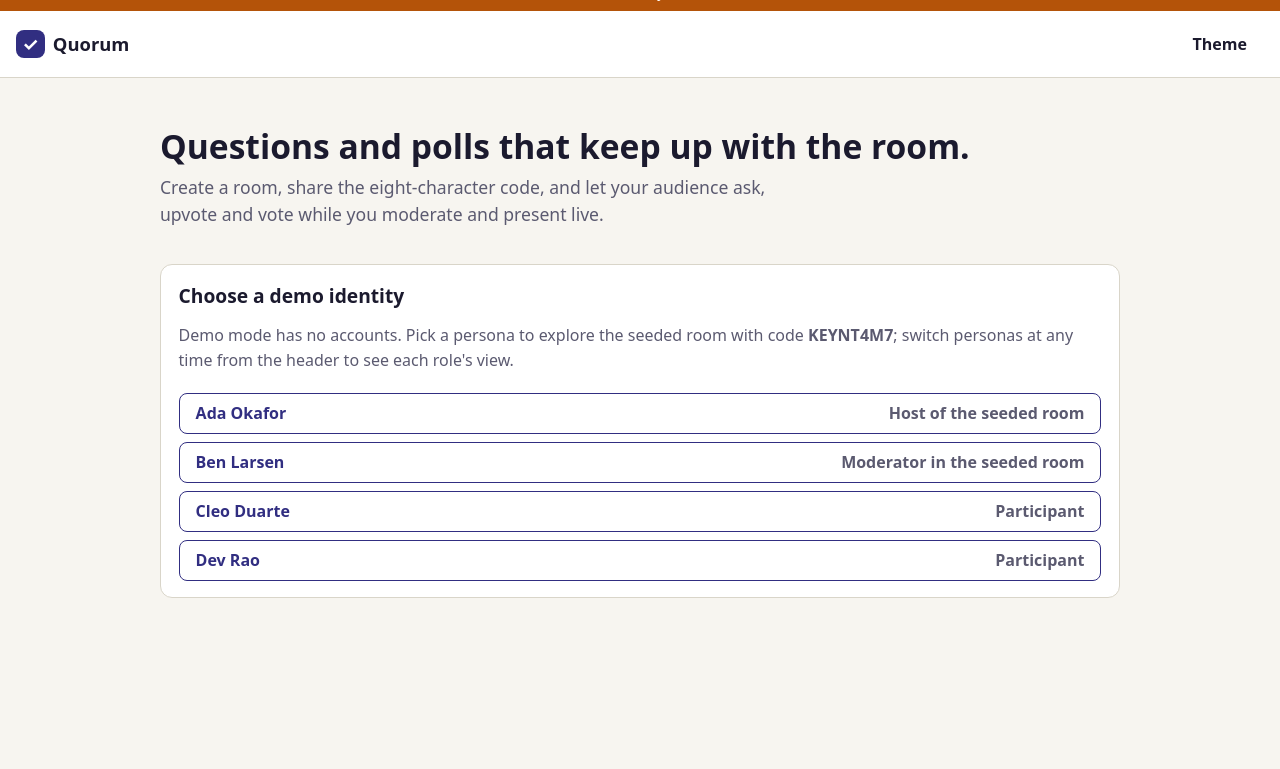
as a participant › votes once in the open poll and then sees results
Click the button "Ada Okafor Host of the seeded room": (241, 413) [179, 393, 1101, 434]
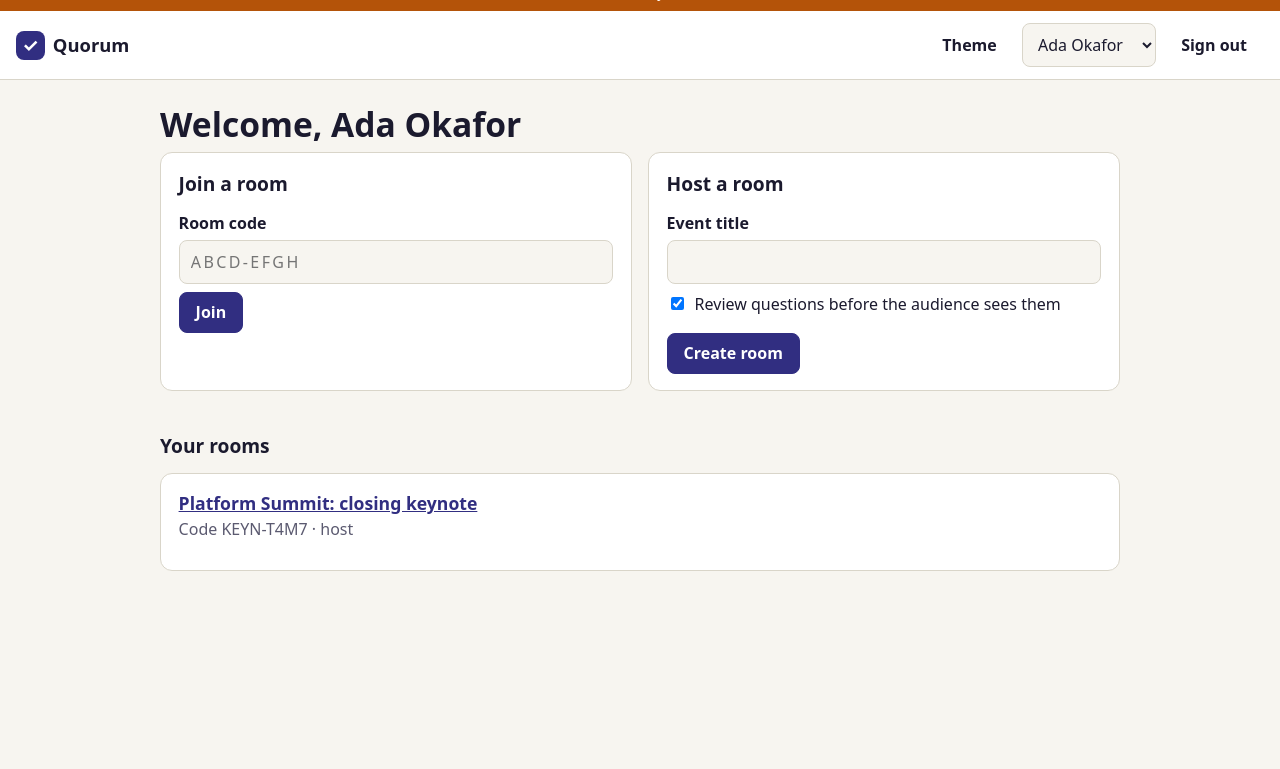
Click the link "Platform Summit: closing keynote": (328, 503) [179, 491, 477, 515]
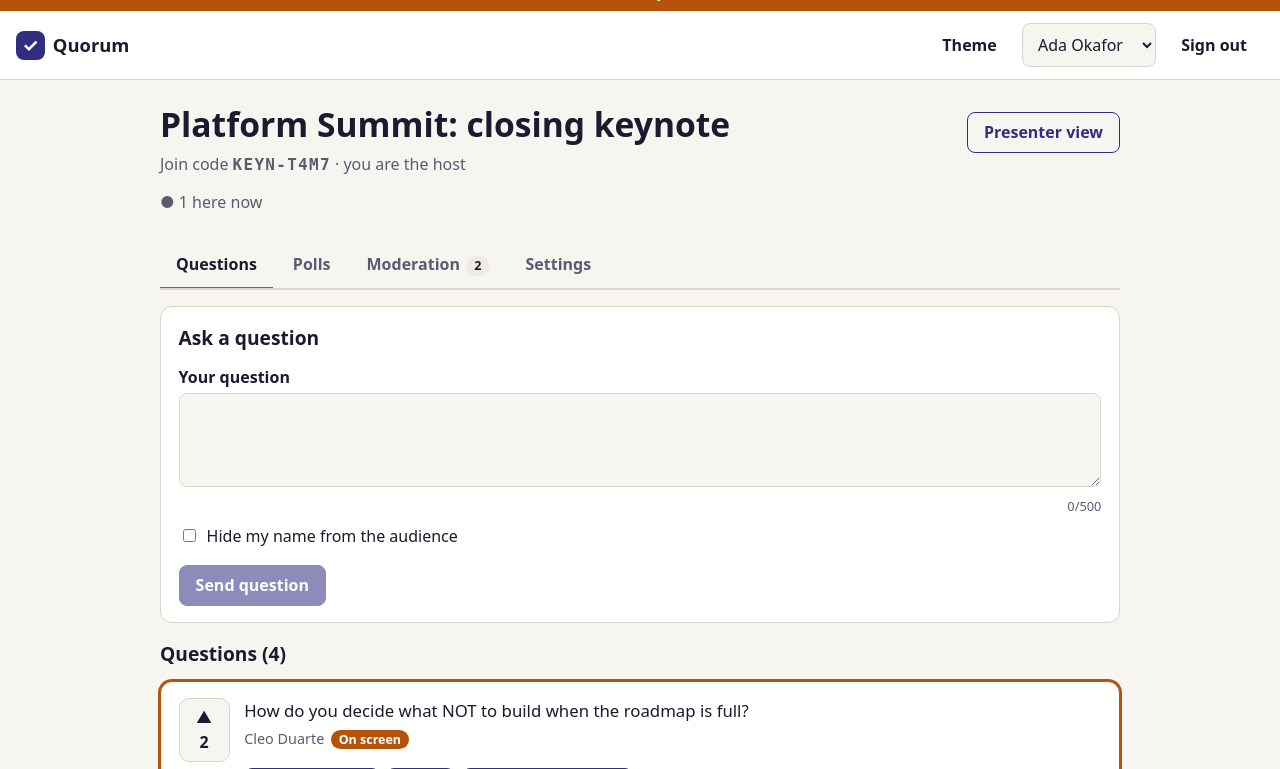
Click the tab "Polls": (312, 266) [277, 243, 347, 290]
(page scrolled)
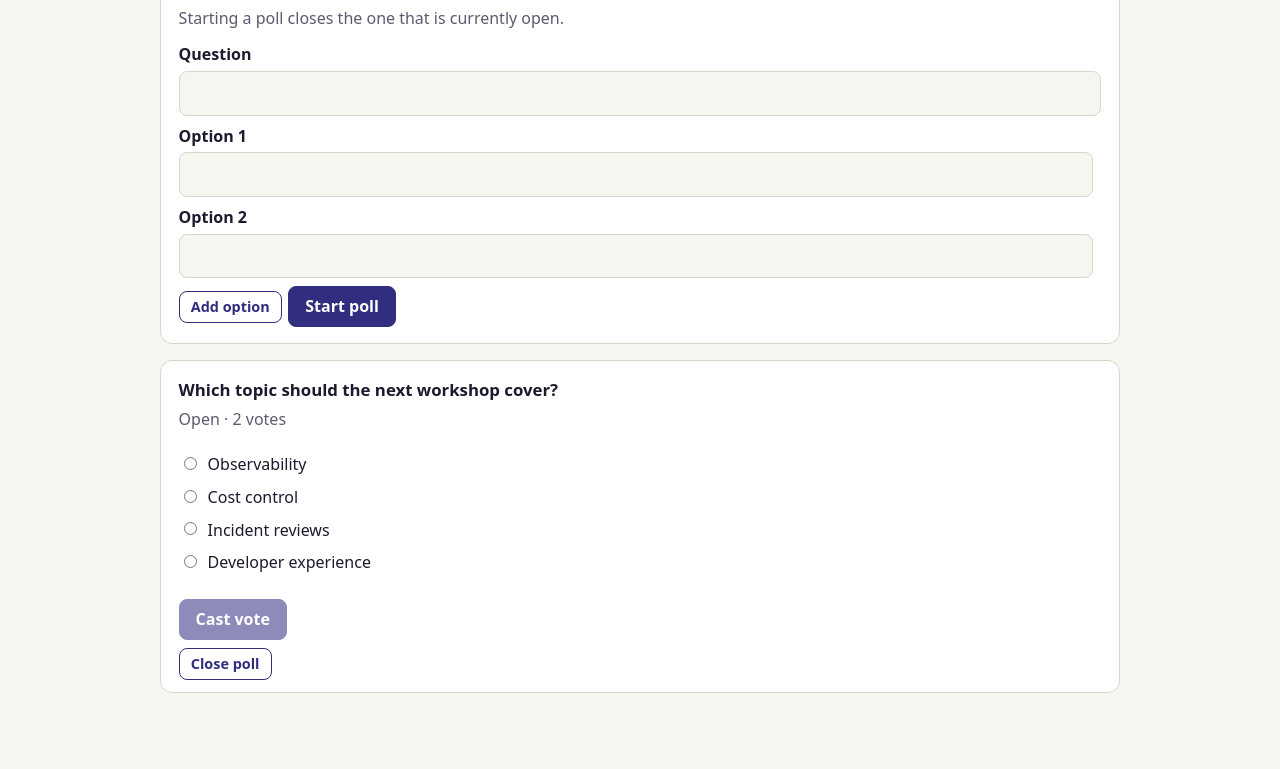
Click the radio button labelled "Cost control": (190, 496) [184, 490, 197, 502]
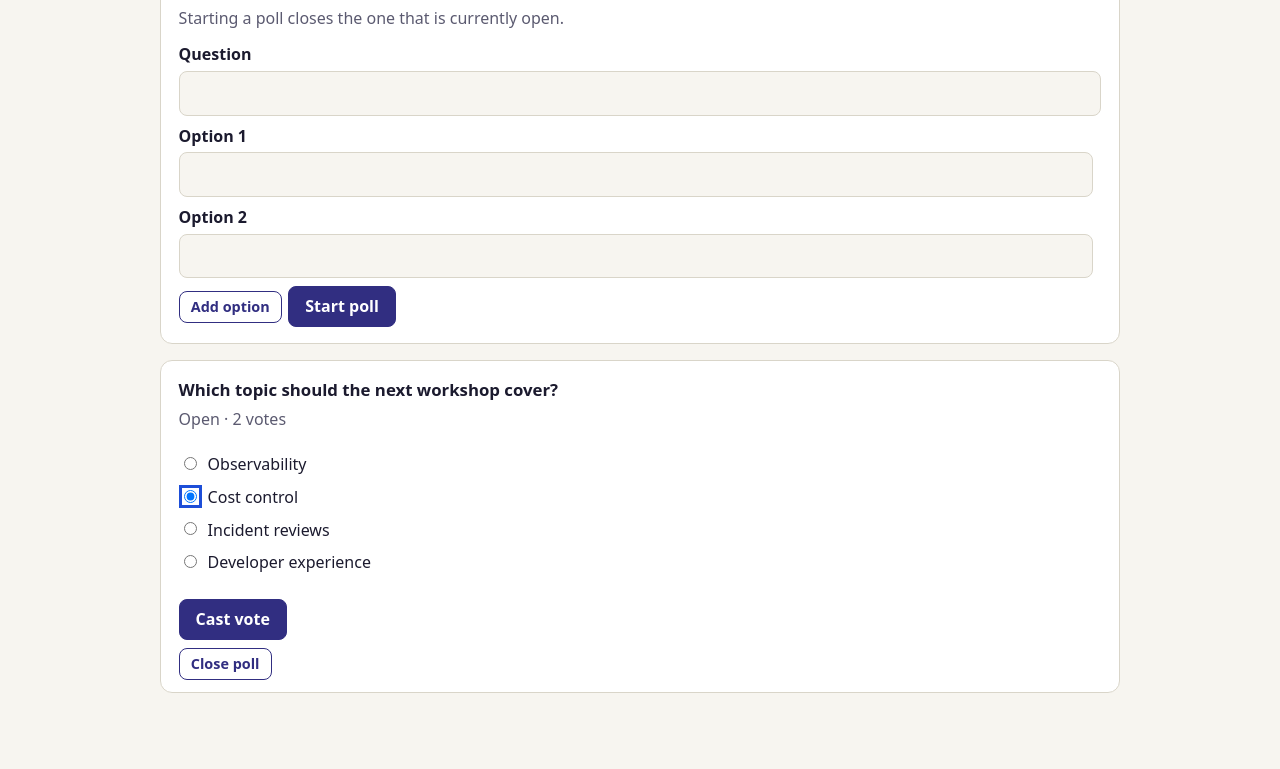
Click the button "Cast vote": (233, 620) [179, 599, 287, 640]
(page scrolled)
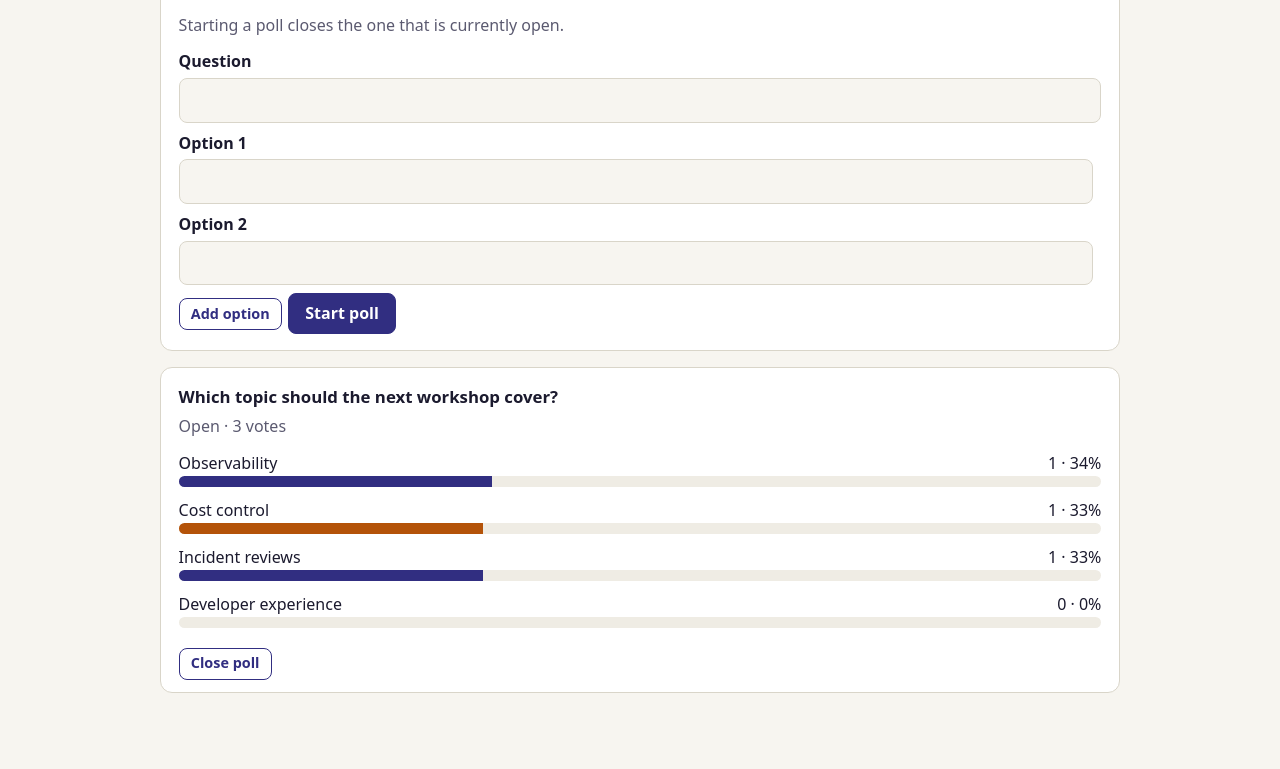
Check: the text "Open · 3 votes" is shown, box [179, 415, 286, 437]
Check: the button "Cast vote" is gone
